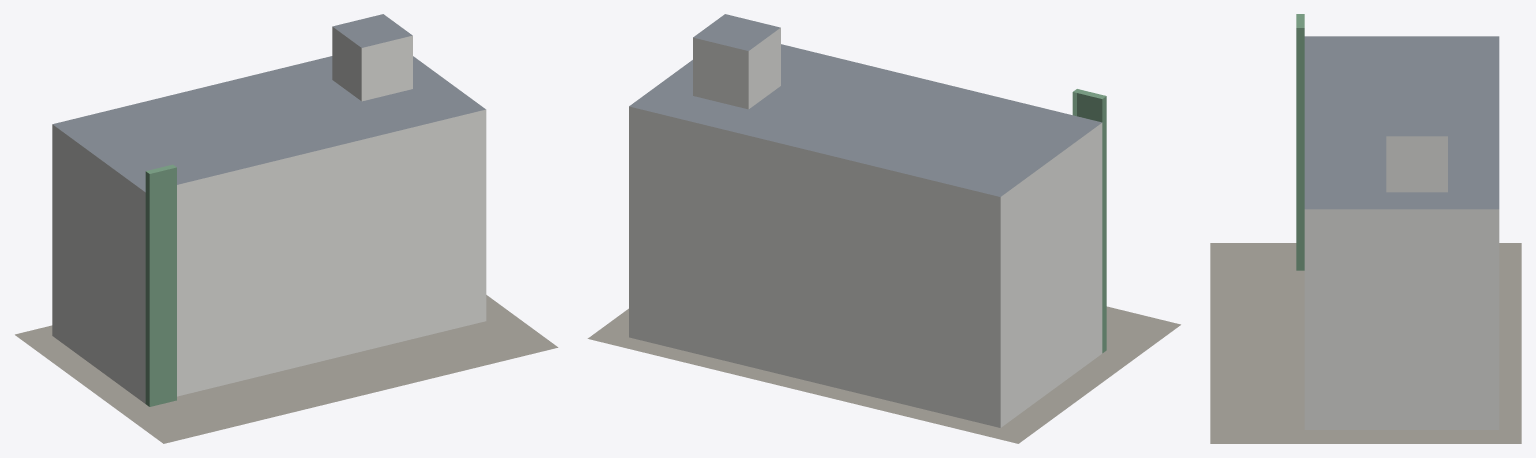
The model's file is mashup-admin-far.fbx.
3 views of the same model, side by side, from view 1: azimuth 30°, elevation 25°; view 2: azimuth 150°, elevation 25°; view 3: azimuth 270°, elevation 25° (orthographic). The views are drawn at different scales.
Parts seen in each view (by area): view 1: a1057/0/mashup-admin-far; view 2: a1057/0/mashup-admin-far; view 3: a1057/0/mashup-admin-far.
Part boxes in pixels (bbox=[...]): a1057/0/mashup-admin-far: bbox=[15, 14, 558, 443]; a1057/0/mashup-admin-far: bbox=[587, 14, 1180, 443]; a1057/0/mashup-admin-far: bbox=[1210, 14, 1521, 443].
Bounding box in the file's own units: 23.2 × 14.88 × 15.2.
